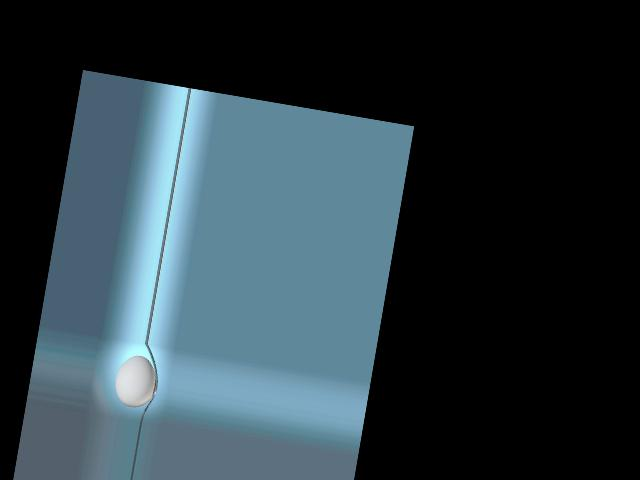egg: (112, 352, 159, 410)
